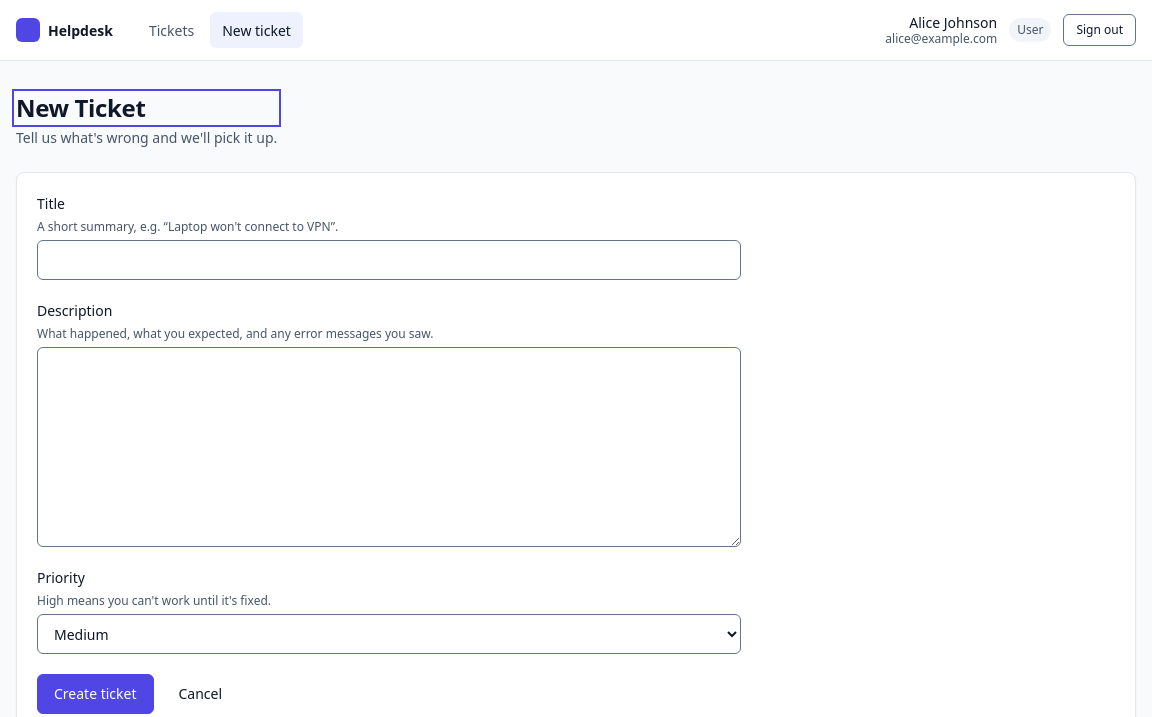
it: NewTicketPage › creates the ticket and lands on it with a confirmation
Type "Laptop will not boot" into the field labelled "Title" at (389, 260), box [37,240,741,280]
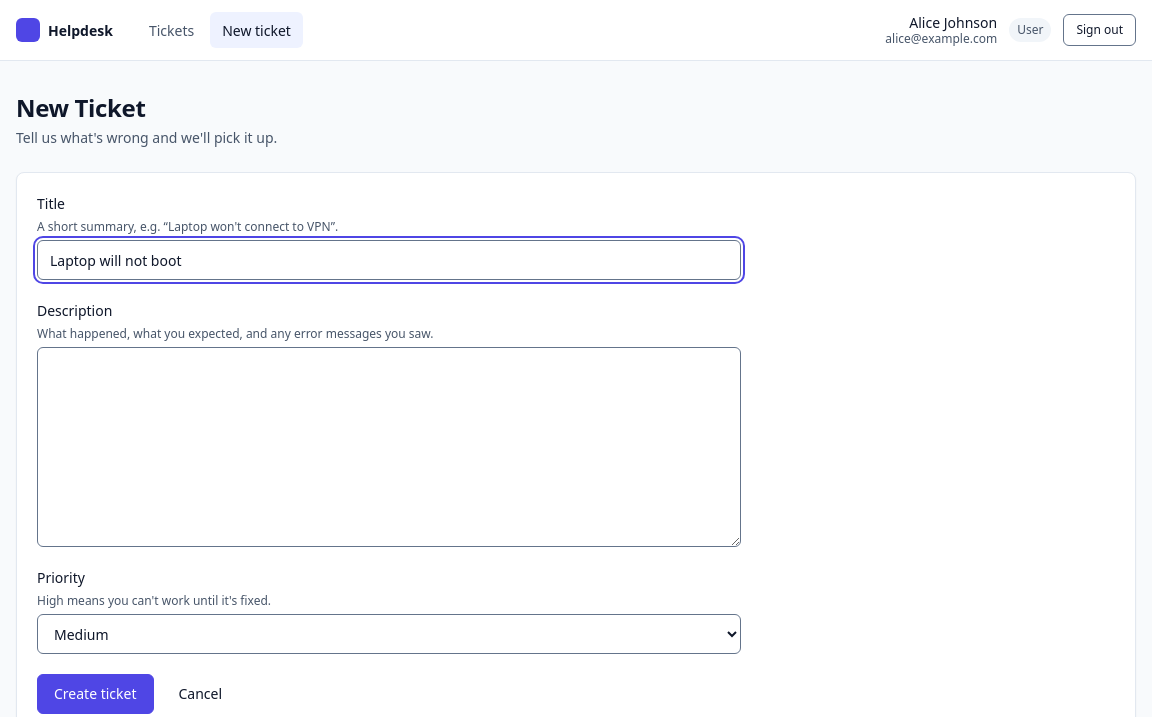
Type "Black screen after logo" into the text box labelled "Description" at (389, 447), box [37,347,741,547]
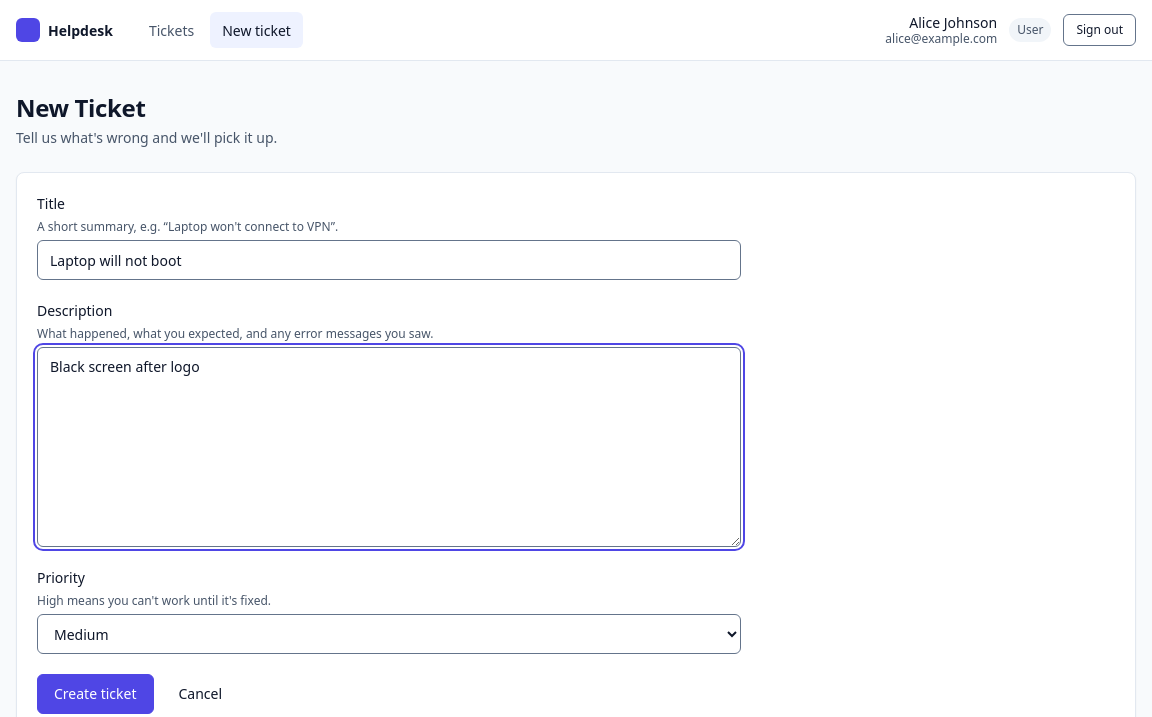
Select "High" in the dropdown labelled "Priority" at (389, 634), box [37,614,741,654]
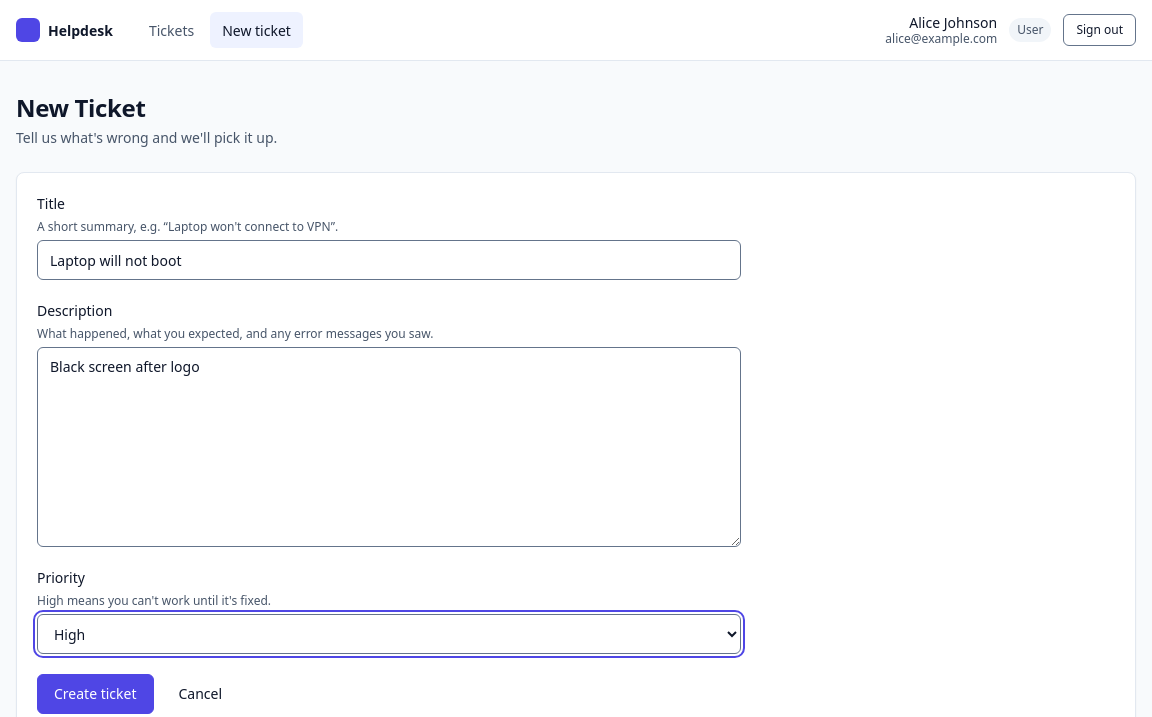
Click the button "Create ticket" at (95, 694), box [37,674,154,714]
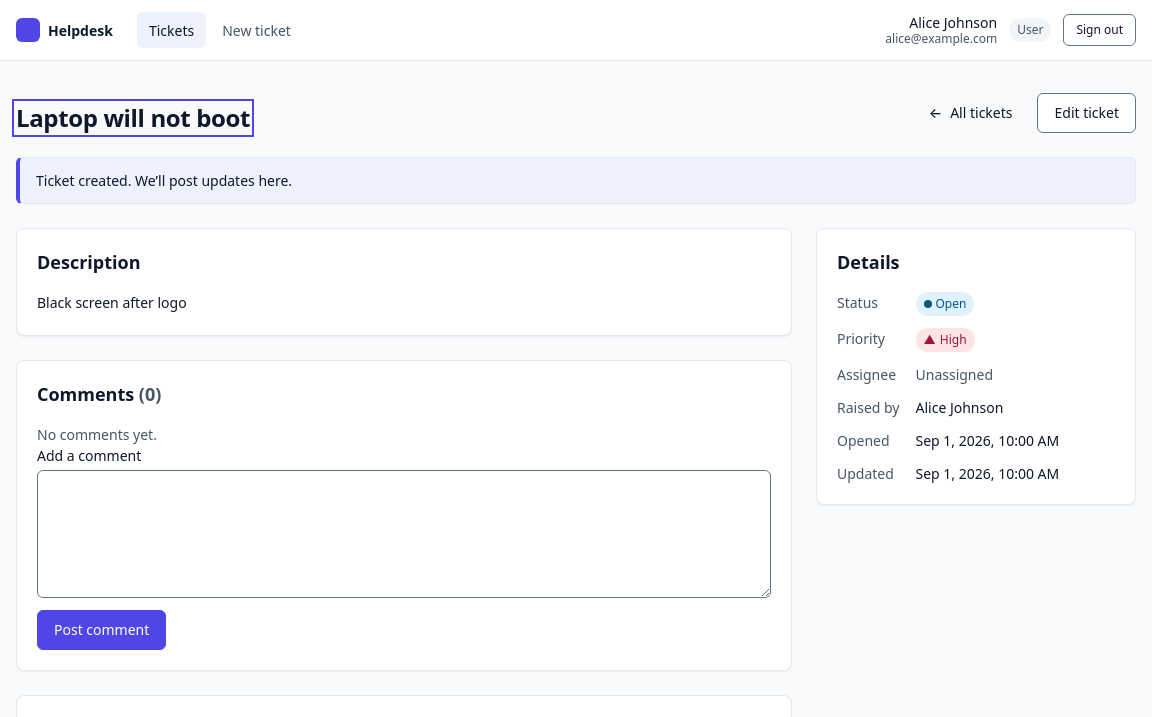
Now the text "Ticket created. We’ll post updates here." is shown, box [16,157,1136,204]
Now the heading "Laptop will not boot" is shown, box [16,103,250,133]
